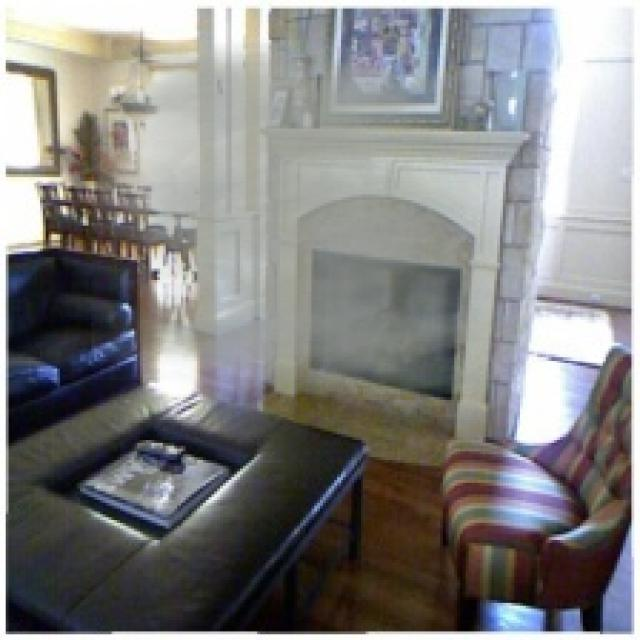smoke: (91, 40, 500, 394)
